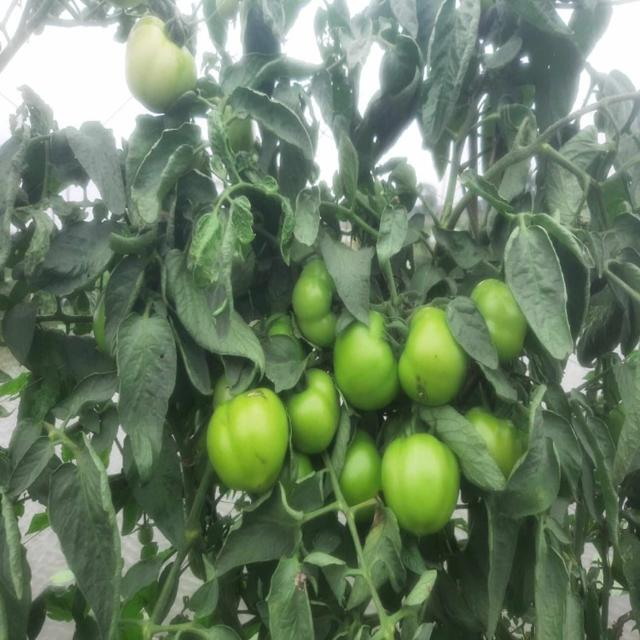tomato: (378, 431, 458, 531), (125, 17, 207, 113), (206, 394, 285, 485), (398, 306, 463, 407), (336, 325, 396, 414), (289, 368, 346, 459), (476, 280, 527, 357), (297, 260, 339, 348), (479, 400, 525, 468), (350, 427, 387, 500), (266, 312, 295, 345)
